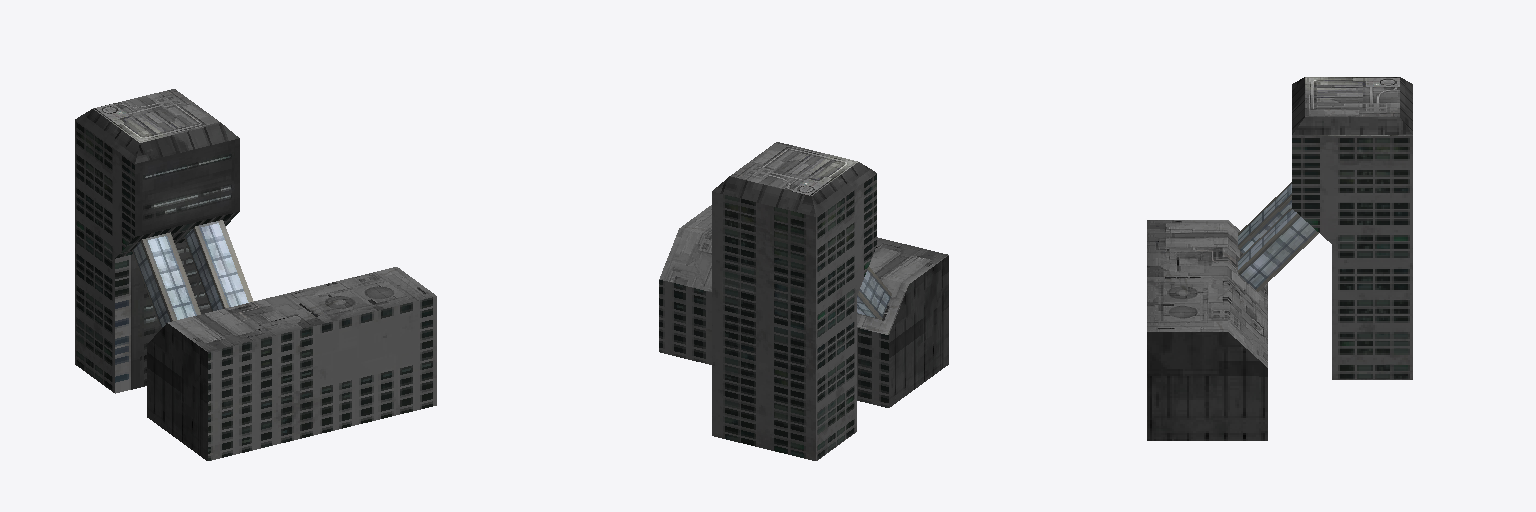
3 views of the same model, side by side, from view 1: azimuth 30°, elevation 25°; view 2: azimuth 150°, elevation 25°; view 3: azimuth 270°, elevation 25° (orthographic).
Parts seen in each view (by area): view 1: building_45; view 2: building_45; view 3: building_45.
Boxes of the visible parts, x1=… form: building_45: x1=75, y1=89, x2=436, y2=460; building_45: x1=659, y1=142, x2=948, y2=460; building_45: x1=1147, y1=77, x2=1412, y2=440.
Size of the model in its own units: 94.54 by 101 by 94.76.
1 materials, 1 textured.